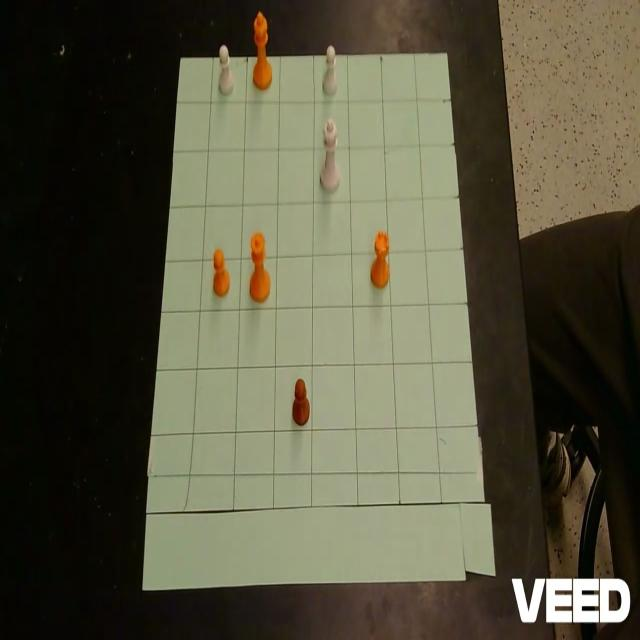orange_king: (252, 11, 272, 89)
orange_pawn: (292, 377, 310, 426)
orange_queen: (249, 231, 271, 302)
orange_rook: (370, 228, 390, 288), (212, 247, 230, 296)
white_king: (320, 117, 340, 192)
white_pawn: (218, 44, 234, 95), (322, 44, 338, 95)
